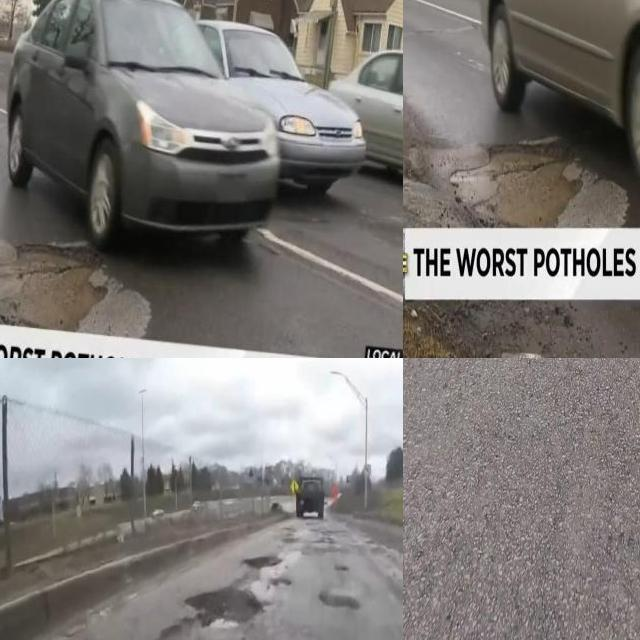Pothole: (419, 141, 611, 224), (0, 242, 149, 340), (0, 241, 151, 335), (0, 252, 106, 330), (195, 594, 259, 634), (318, 590, 359, 609), (244, 556, 282, 567), (500, 349, 546, 358), (313, 534, 338, 544), (270, 577, 292, 586), (282, 537, 301, 544), (334, 566, 349, 570), (283, 531, 297, 535)
